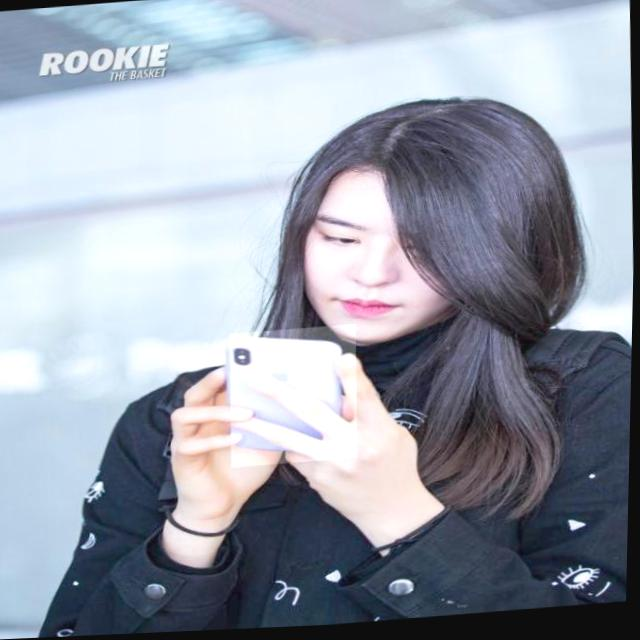Smartphone: (228, 329, 354, 470)
